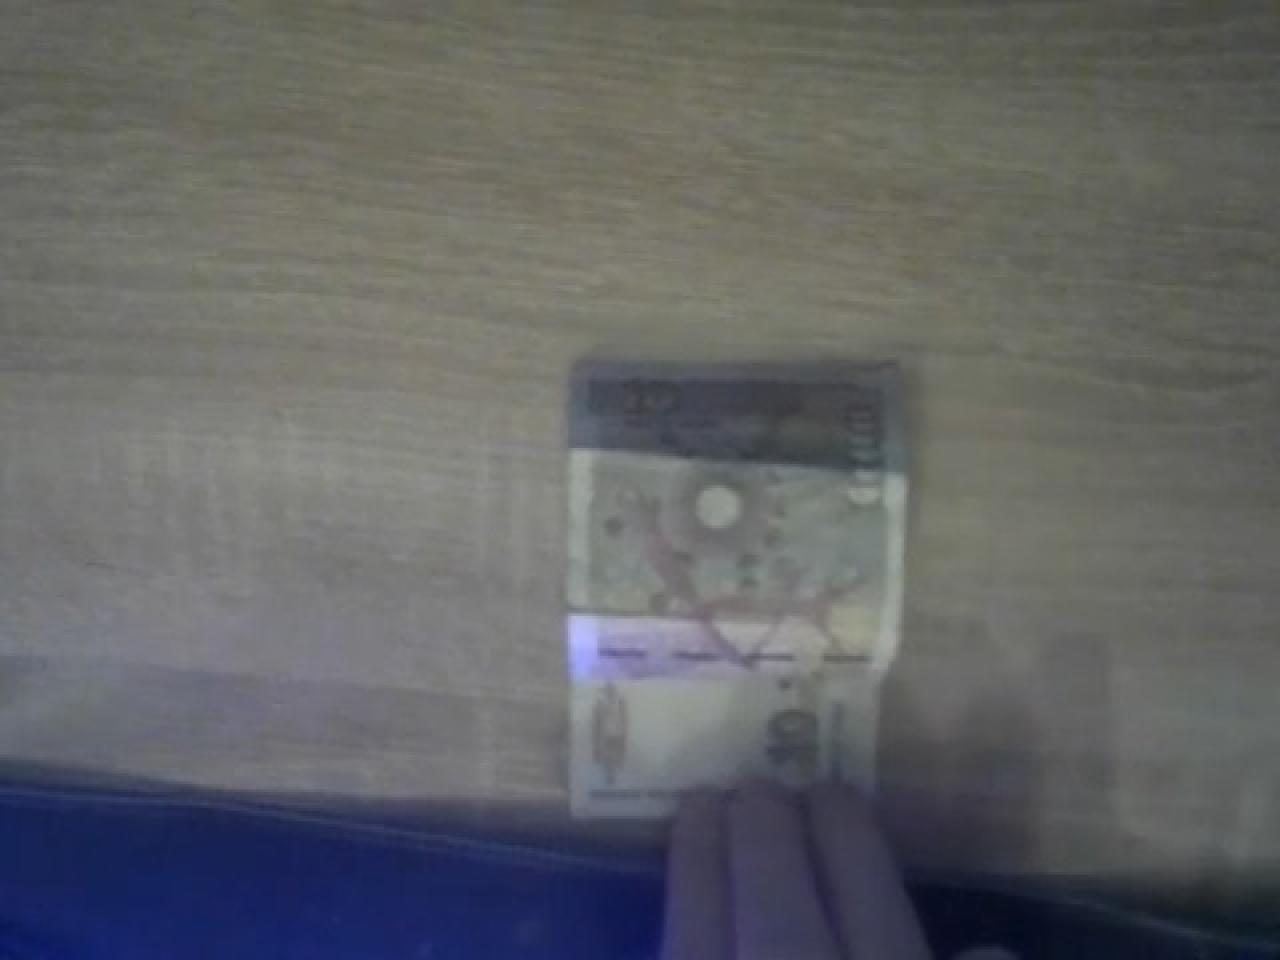10leva: (560, 363, 912, 819)
